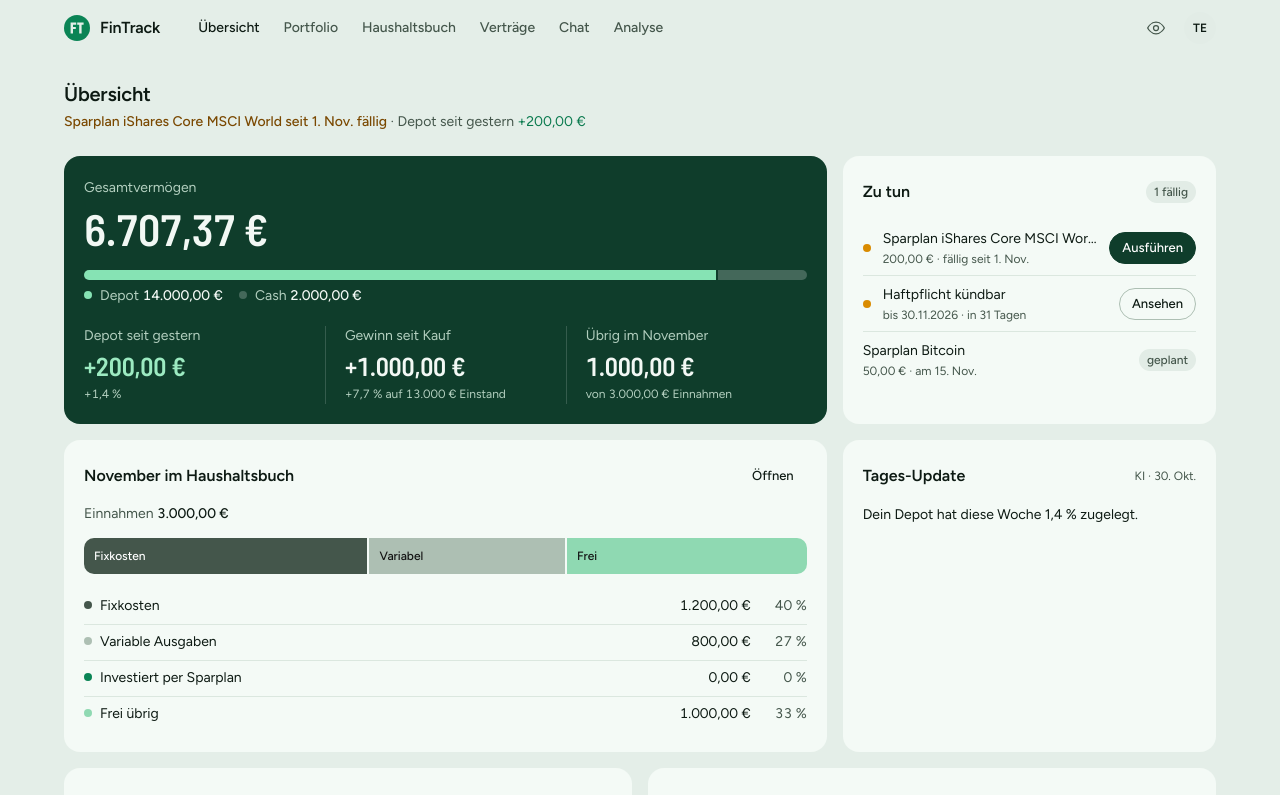
Test case: Chat › ist über die Navigation erreichbar
The width and height of the screenshot is (1280, 795).
Click the link "Chat" at (574, 28), box x1=559 y1=19 x2=590 y2=36
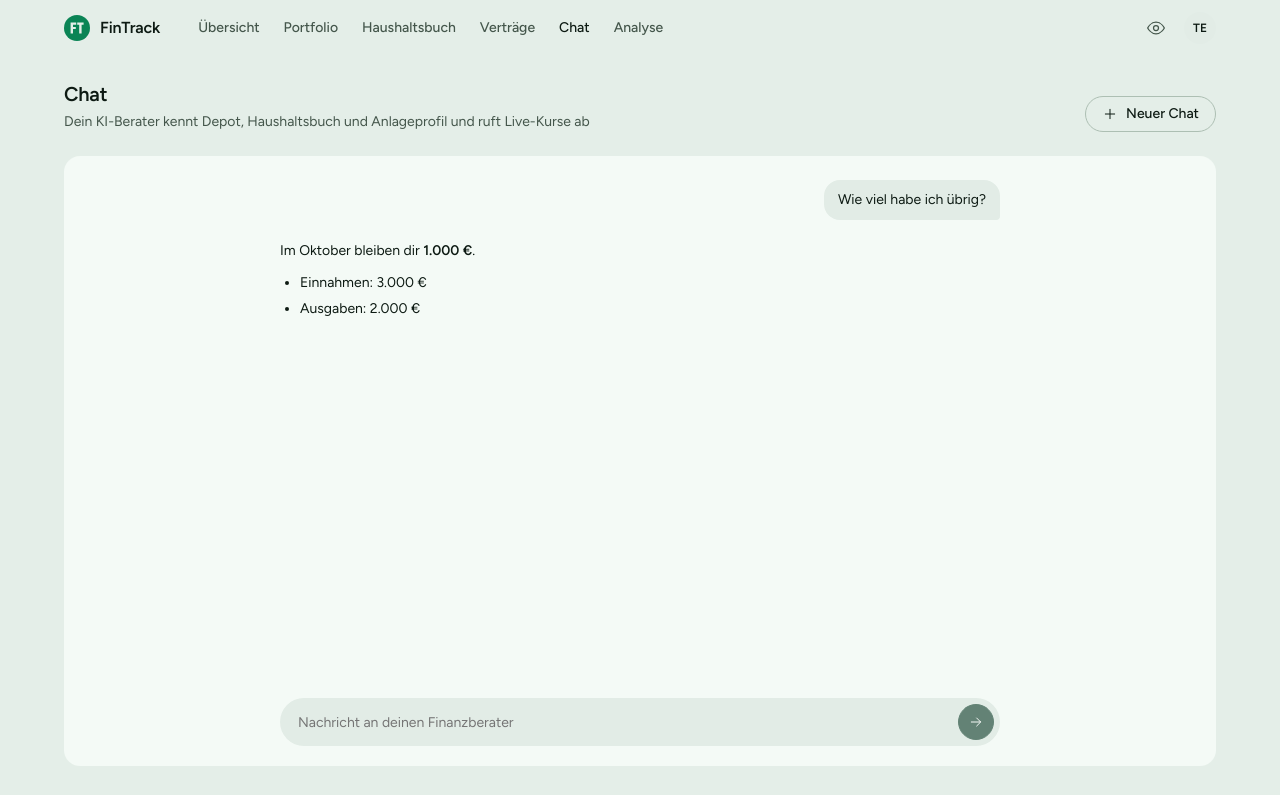
Expected: the heading "Chat" is shown, x1=64 y1=82 x2=107 y2=106
